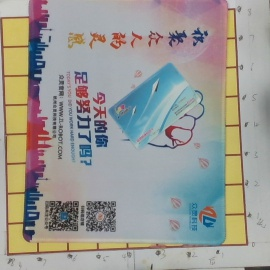card: (106, 63, 203, 150)
